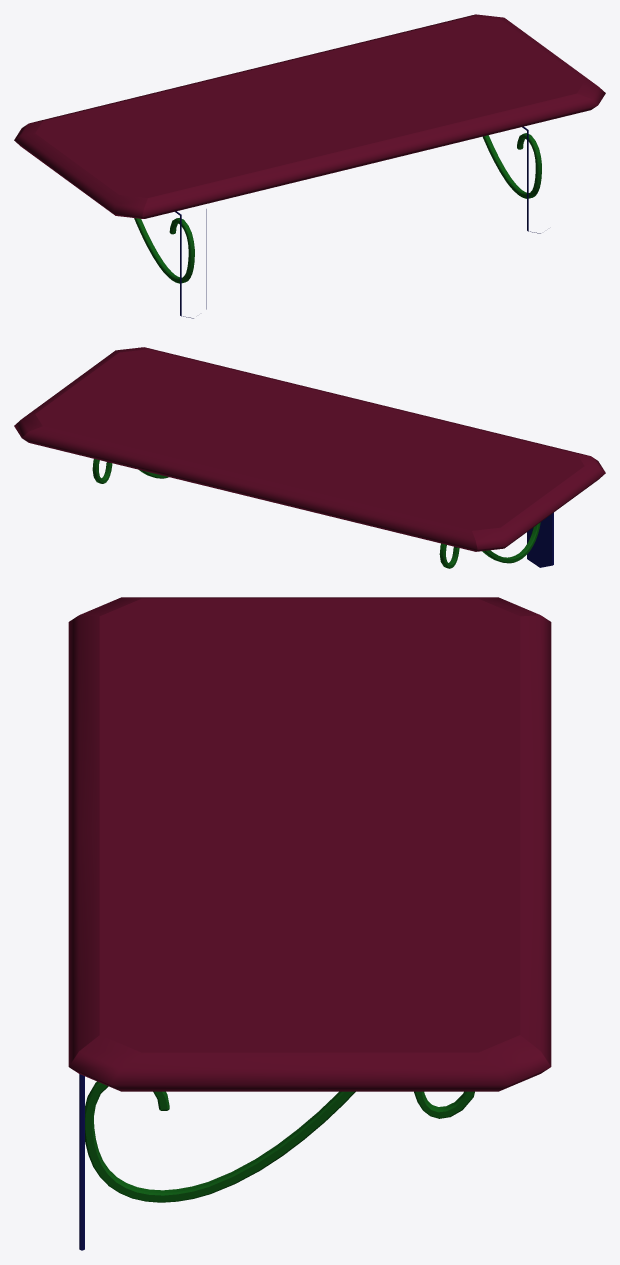
Rendered from MESH_WallShelf.fbx.
The picture shows the model from 3 angles, top to bottom: view 1: azimuth 30°, elevation 25°; view 2: azimuth 150°, elevation 25°; view 3: azimuth 270°, elevation 25°; orthographic projection. The views are drawn at different scales.
Parts seen in each view (by area): view 1: MESH_WallShelf; view 2: MESH_WallShelf; view 3: MESH_WallShelf.
Boxes of the visible parts, x1,y1,x2,y2 form: MESH_WallShelf: (14,14,605,318); MESH_WallShelf: (14,347,605,568); MESH_WallShelf: (68,597,551,1250).
Bounding box in the file's own units: 1.02 × 0.2509 × 0.4326.
